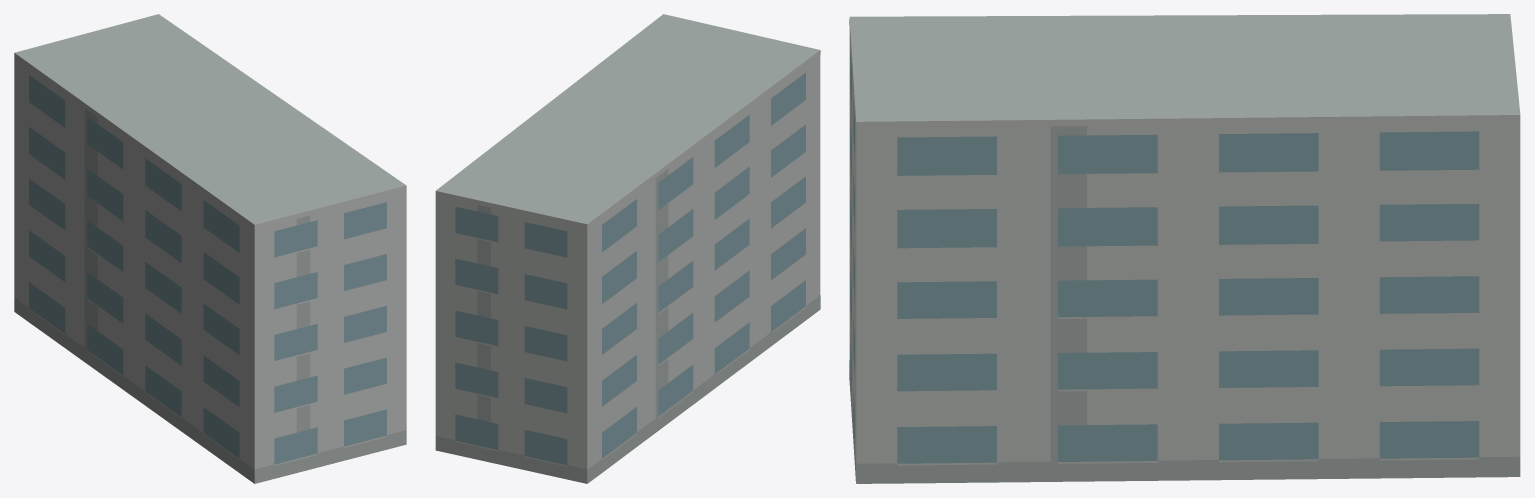
File: survey-upis-32972865.glb
3 views of the same model, side by side, from view 1: azimuth 30°, elevation 25°; view 2: azimuth 150°, elevation 25°; view 3: azimuth 270°, elevation 25° (orthographic). The views are drawn at different scales.
Parts seen in each view (by area): view 1: survey-upis-32972865.tmp; view 2: survey-upis-32972865.tmp; view 3: survey-upis-32972865.tmp.
Part boxes in pixels (x1,y1,x2,y2): survey-upis-32972865.tmp: (14, 14, 406, 483); survey-upis-32972865.tmp: (435, 14, 820, 483); survey-upis-32972865.tmp: (849, 14, 1520, 483).
Bounding box in the file's own units: 8.44 × 13.2 × 22.18.
